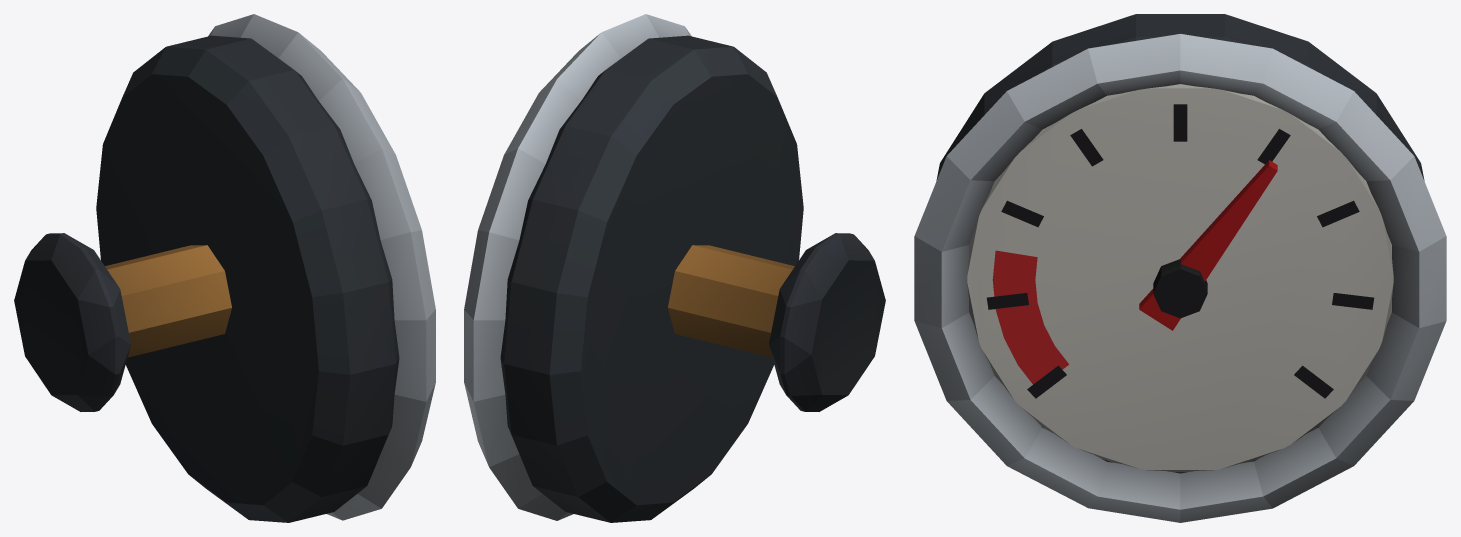
The model's file is gauge.glb.
3 views of the same model, side by side, from view 1: azimuth 30°, elevation 25°; view 2: azimuth 150°, elevation 25°; view 3: azimuth 270°, elevation 25° (orthographic). The views are drawn at different scales.
Visible parts, largest first — view 1: Body; view 2: Body; view 3: Body, Needle.
Part boxes in pixels (box(x1,y1,x2,y2)): Body: box(14, 14, 435, 522); Body: box(464, 14, 885, 522); Body: box(914, 14, 1446, 522); Needle: box(1139, 160, 1277, 330).
Size of the model in its own units: 0.195 by 0.3162 by 0.3117.
